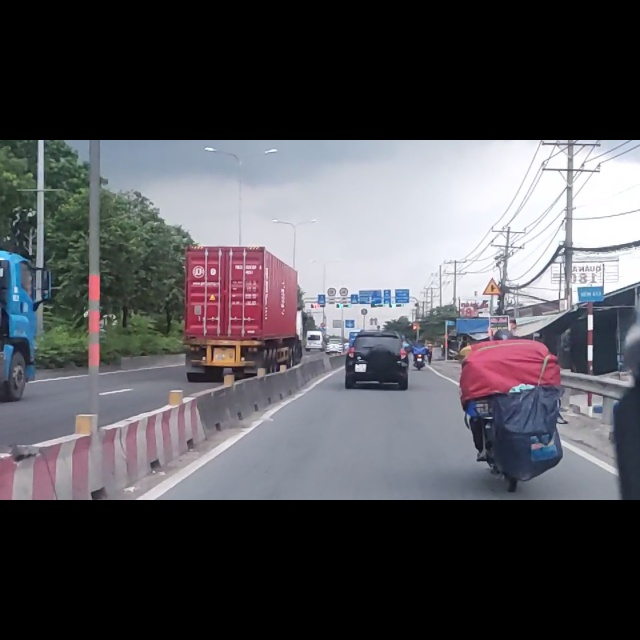bien_cam: (481, 243, 503, 277), (337, 261, 349, 284)
